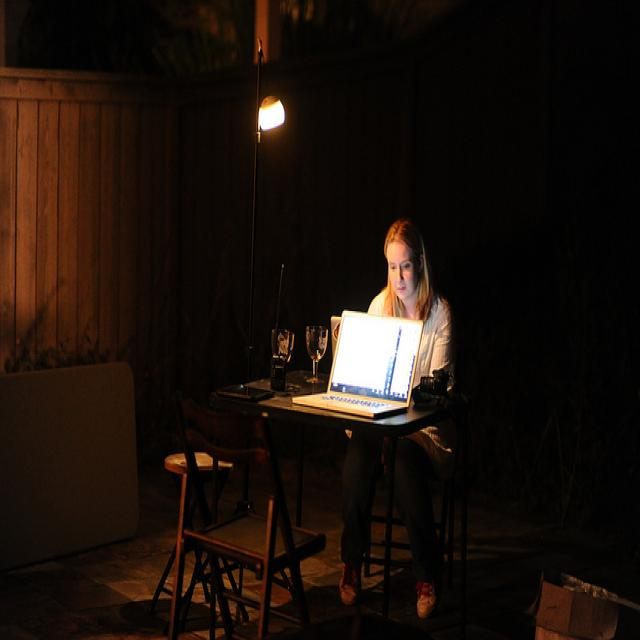Cup: (258, 293, 297, 393), (298, 323, 335, 388)
People: (370, 223, 460, 634)
Table: (220, 347, 470, 640)
chair: (156, 443, 353, 627)
